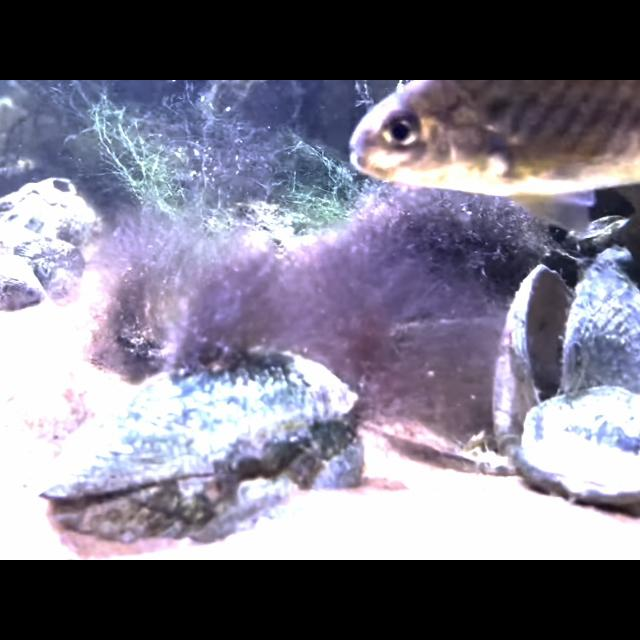Oyster-Closed: (511, 385, 640, 504)
Oyster-Open: (38, 348, 364, 546), (489, 256, 640, 460)
